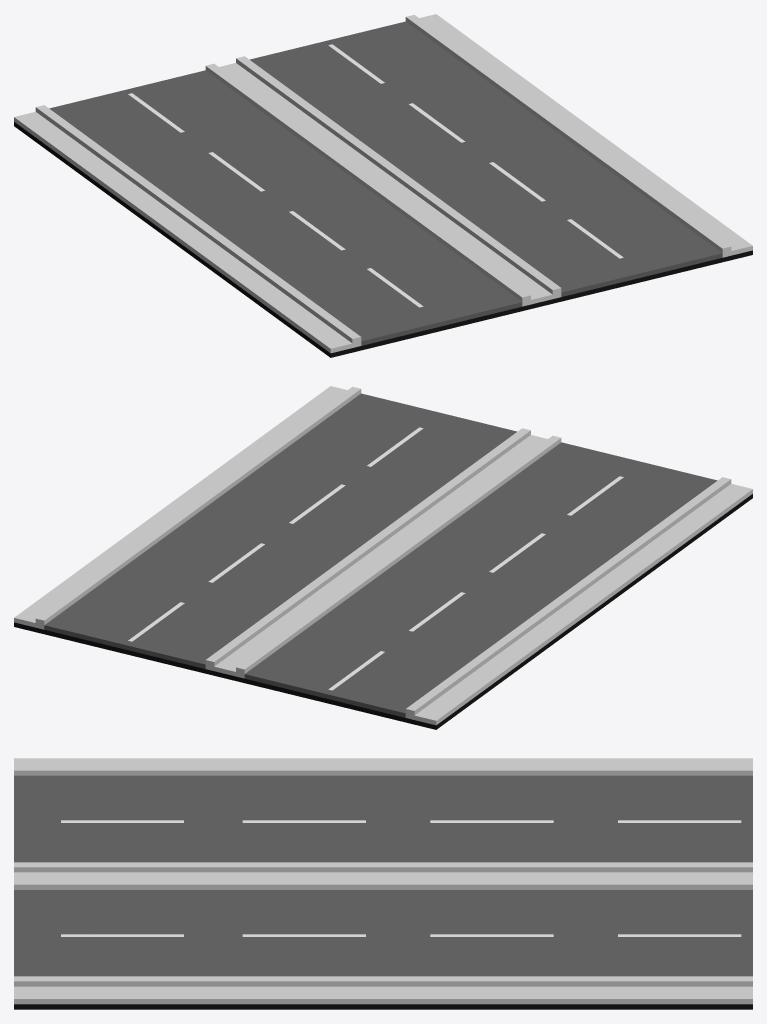
The model's file is Road2.obj.
3 renders of one model, top to bottom at view 1: azimuth 30°, elevation 25°; view 2: azimuth 150°, elevation 25°; view 3: azimuth 270°, elevation 25°, orthographic. The views are drawn at different scales.
Visible parts, largest first — view 1: Road2; view 2: Road2; view 3: Road2.
Part boxes in pixels (x1,y1,x2,y2): Road2: (14,14,752,357); Road2: (14,386,752,729); Road2: (14,758,752,1009).
Size of the model in its own units: 97 by 3 by 126.
